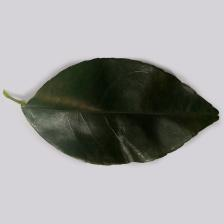healthy: (33, 72, 200, 159)
